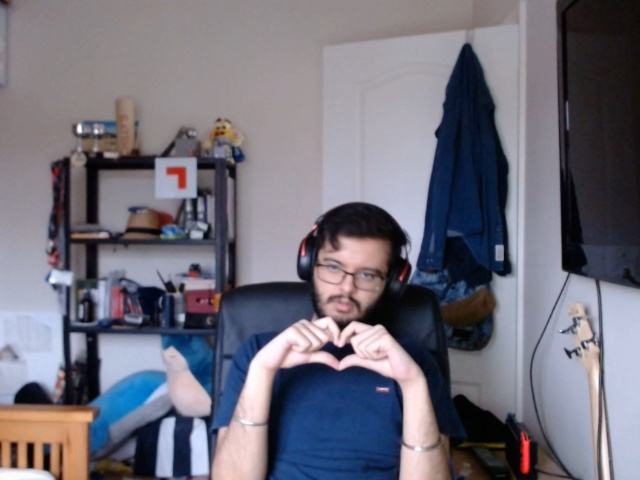Heart: (296, 313, 380, 376)
